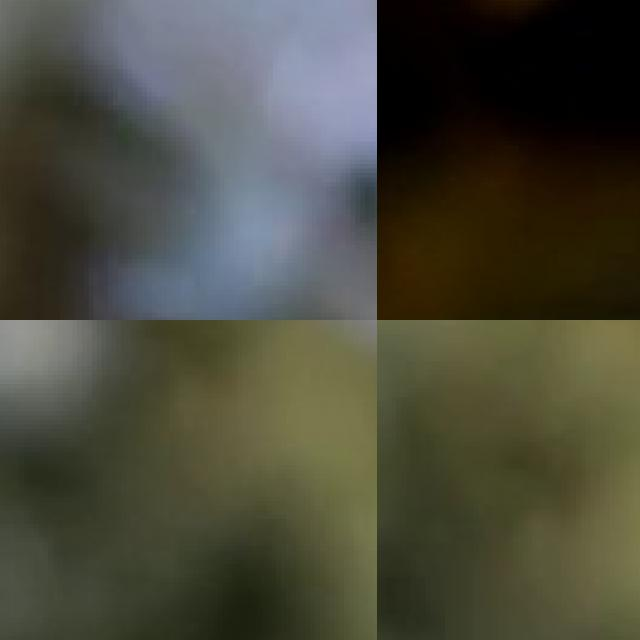fish: (0, 0, 377, 320), (111, 320, 377, 640)
